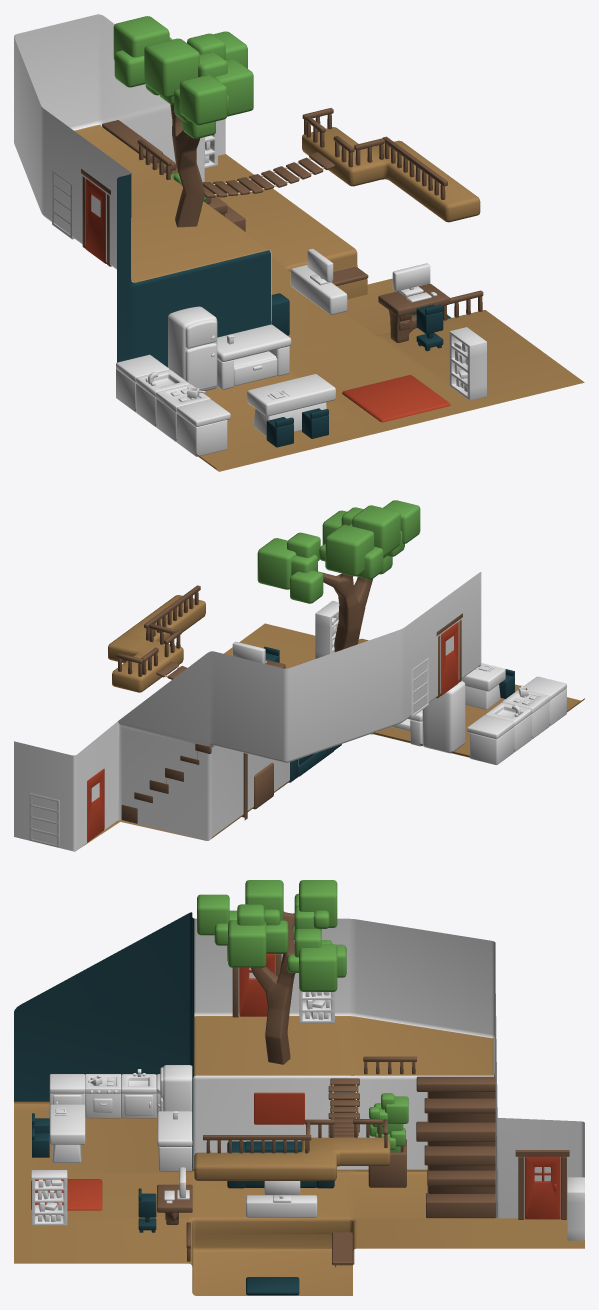
File: MOD_House.fbx
The picture shows the model from 3 angles, top to bottom: view 1: azimuth 30°, elevation 25°; view 2: azimuth 150°, elevation 25°; view 3: azimuth 270°, elevation 25°; orthographic projection. The views are drawn at different scales.
Visible parts, largest first — view 1: MOD_Walls, MOD_Tree, MOD_Platform, MOD_Cupboard, MOD_Fridge, MOD_DiningTable, MOD_Carpet, MOD_KitchenCabinet, MOD_Bookcase_0, MOD_HangBridge, MOD_Door, MOD_Desk (+13 smaller); view 2: MOD_Walls, MOD_Tree, MOD_Platform, MOD_Fridge, MOD_KitchenCabinet.001, MOD_Door, MOD_DiningTable, MOD_Stairs, MOD_Bookcase_0, MOD_KitchenCabinetSink, MOD_KitchenCabinetOven, MOD_KitchenCabinet (+7 smaller); view 3: MOD_Walls, MOD_Tree, MOD_Stairs, MOD_Platform, MOD_Door.001, MOD_HousePlant, MOD_Cupboard, MOD_Bookcase_0, MOD_DiningTable, MOD_Door, MOD_HangBridge, MOD_Poster (+15 smaller).
Boxes of the visible parts, left/top/right/bottom form: MOD_Walls: left=14, top=14, right=584, bottom=471; MOD_Tree: left=113, top=16, right=253, bottom=227; MOD_Platform: left=302, top=127, right=480, bottom=222; MOD_Cupboard: left=217, top=324, right=291, bottom=389; MOD_Fridge: left=168, top=306, right=217, bottom=391; MOD_DiningTable: left=247, top=374, right=335, bottom=435; MOD_Carpet: left=342, top=375, right=450, bottom=422; MOD_KitchenCabinet: left=176, top=399, right=230, bottom=456; MOD_Bookcase_0: left=449, top=327, right=486, bottom=400; MOD_HangBridge: left=179, top=152, right=334, bottom=197; MOD_Door: left=81, top=169, right=111, bottom=266; MOD_Desk: left=378, top=283, right=450, bottom=342; MOD_Walls: left=14, top=572, right=584, bottom=851; MOD_Tree: left=257, top=500, right=420, bottom=651; MOD_Platform: left=108, top=595, right=205, bottom=692; MOD_Fridge: left=422, top=680, right=465, bottom=753; MOD_KitchenCabinet.001: left=467, top=715, right=513, bottom=764; MOD_Door: left=436, top=613, right=462, bottom=698; MOD_DiningTable: left=461, top=663, right=505, bottom=709; MOD_Stairs: left=121, top=743, right=247, bottom=823; MOD_Bookcase_0: left=315, top=601, right=339, bottom=658; MOD_KitchenCabinetSink: left=485, top=702, right=531, bottom=752; MOD_KitchenCabinetOven: left=502, top=690, right=549, bottom=739; MOD_KitchenCabinet: left=523, top=676, right=566, bottom=726; MOD_Walls: left=14, top=912, right=584, bottom=1295; MOD_Tree: left=197, top=880, right=346, bottom=1064; MOD_Stairs: left=416, top=1076, right=495, bottom=1218; MOD_Platform: left=194, top=1137, right=390, bottom=1180; MOD_Door.001: left=515, top=1150, right=569, bottom=1219; MOD_HousePlant: left=368, top=1093, right=408, bottom=1187; MOD_Cupboard: left=157, top=1111, right=192, bottom=1171; MOD_Bookcase_0: left=31, top=1170, right=67, bottom=1225; MOD_DiningTable: left=49, top=1104, right=85, bottom=1162; MOD_Door: left=232, top=953, right=282, bottom=1017; MOD_HangBridge: left=328, top=1078, right=359, bottom=1137; MOD_Poster: left=254, top=1092, right=304, bottom=1124.
Bounding box in the file's own units: 1050 × 906 × 1600.
